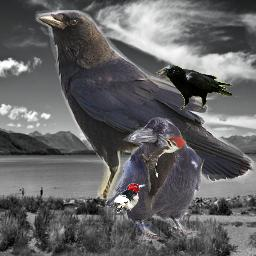Crow: (35, 10, 254, 199), (105, 116, 202, 240), (155, 65, 232, 110)
Woodpecker: (138, 134, 186, 213), (110, 183, 147, 213)
